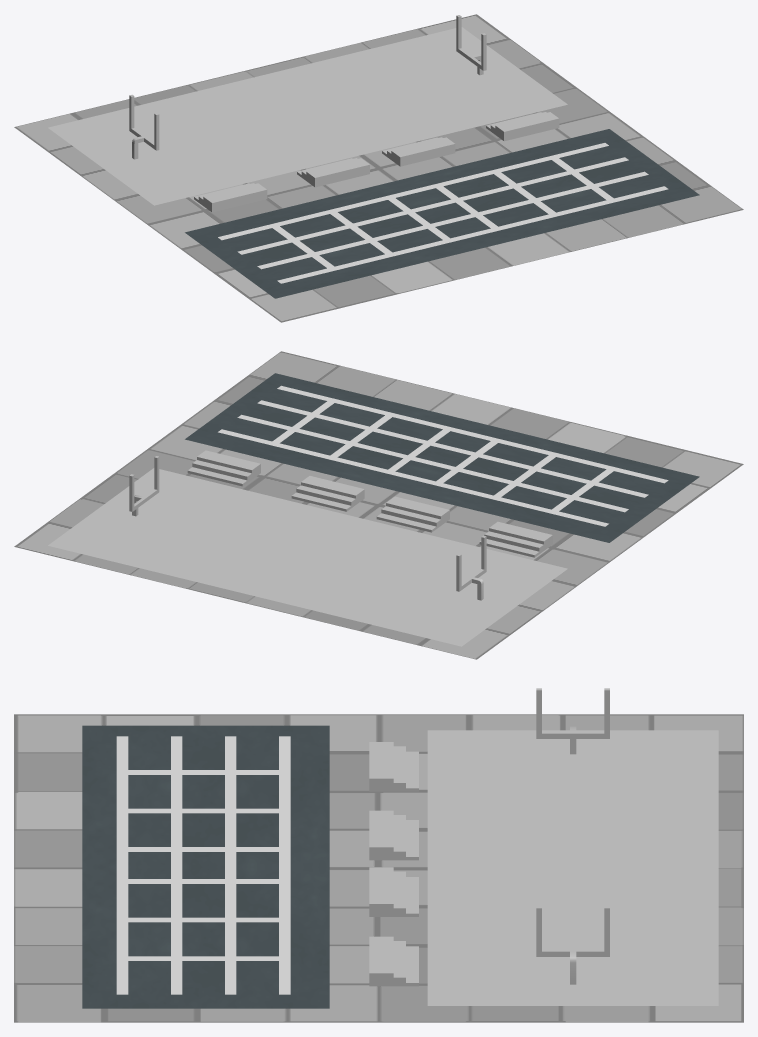
File: tile_poi_football_field_6x6_a.fbx
3 renders of one model, top to bottom at view 1: azimuth 30°, elevation 25°; view 2: azimuth 150°, elevation 25°; view 3: azimuth 270°, elevation 25°, orthographic. The views are drawn at different scales.
Parts seen in each view (by area): view 1: tile_poi_football_field_6x6_a; view 2: tile_poi_football_field_6x6_a; view 3: tile_poi_football_field_6x6_a.
Part boxes in pixels (box(x1,y1,x2,y2)): tile_poi_football_field_6x6_a: box(14, 14, 743, 322); tile_poi_football_field_6x6_a: box(14, 351, 743, 659); tile_poi_football_field_6x6_a: box(14, 688, 743, 1022).
Bounding box in the file's own units: 9600 × 1083 × 9600.
